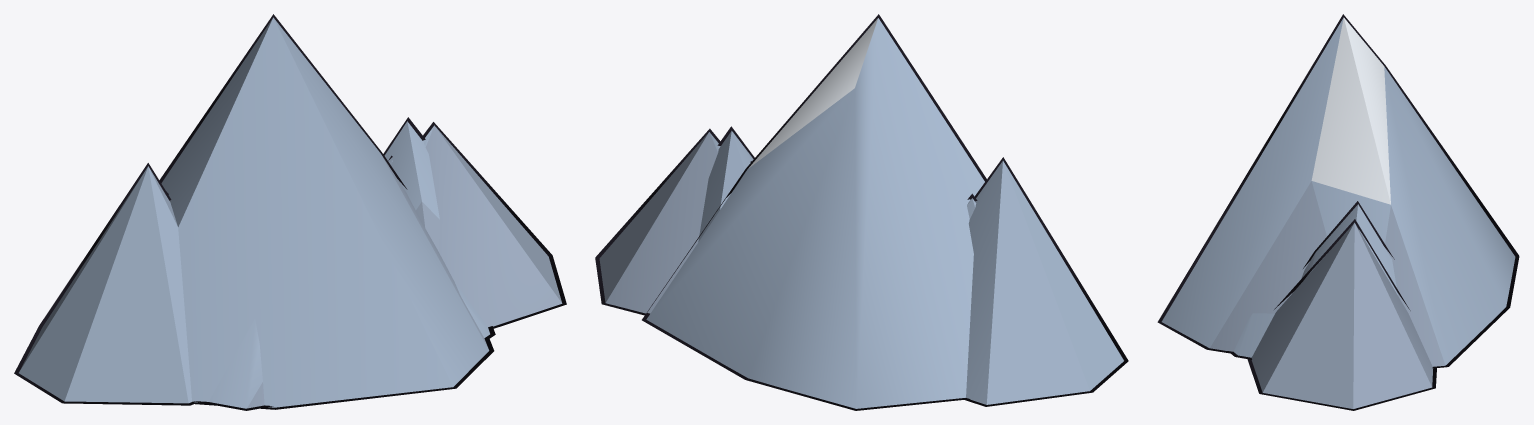
File: fps-kit-mountains.glb
3 views of the same model, side by side, from view 1: azimuth 30°, elevation 25°; view 2: azimuth 150°, elevation 25°; view 3: azimuth 270°, elevation 25° (orthographic). The views are drawn at different scales.
Visible parts, largest first — view 1: KIT_MOUNTAINS_Backdrop_PeakC, KIT_MOUNTAINS_Backdrop_PeakA; view 2: KIT_MOUNTAINS_Backdrop_PeakC, KIT_MOUNTAINS_Backdrop_PeakA; view 3: KIT_MOUNTAINS_Backdrop_PeakC, KIT_MOUNTAINS_Backdrop_PeakA.
Part boxes in pixels (x1=…): KIT_MOUNTAINS_Backdrop_PeakC: x1=14, y1=14, x2=566, y2=409; KIT_MOUNTAINS_Backdrop_PeakA: x1=166, y1=117, x2=495, y2=410; KIT_MOUNTAINS_Backdrop_PeakC: x1=595, y1=14, x2=1128, y2=410; KIT_MOUNTAINS_Backdrop_PeakA: x1=698, y1=126, x2=977, y2=241; KIT_MOUNTAINS_Backdrop_PeakC: x1=1157, y1=14, x2=1519, y2=410; KIT_MOUNTAINS_Backdrop_PeakA: x1=1228, y1=201, x2=1397, y2=359.
Size of the model in its own units: 95.07 by 54.71 by 65.02.
Materials: 1 (1 with a texture image).
